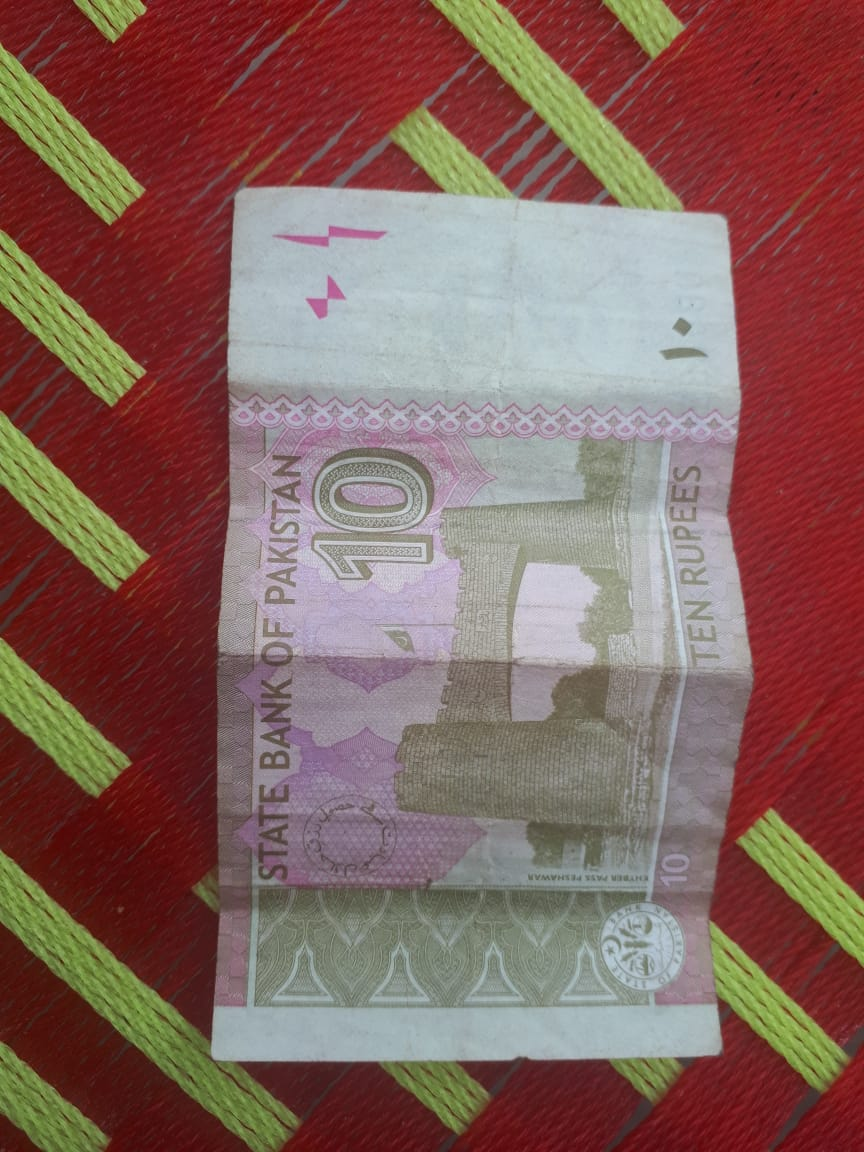10 rupee: (153, 147, 765, 1152)
